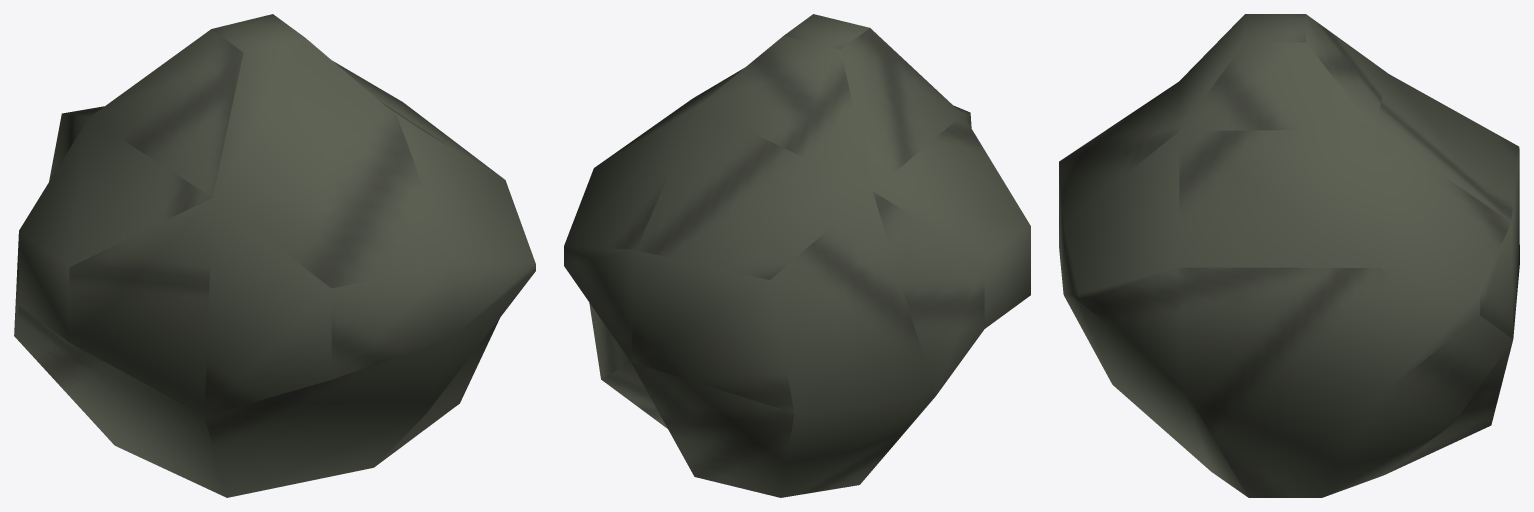
Rendered from Phase 1 Bamboo 1.fbx.
3 renders of one model, left to right at view 1: azimuth 30°, elevation 25°; view 2: azimuth 150°, elevation 25°; view 3: azimuth 270°, elevation 25°, orthographic. The views are drawn at different scales.
Visible parts, largest first — view 1: Phase 1 Bamboo 1; view 2: Phase 1 Bamboo 1; view 3: Phase 1 Bamboo 1.
Part boxes in pixels (<box>): Phase 1 Bamboo 1: <box>14,14,535,497</box>; Phase 1 Bamboo 1: <box>564,14,1030,497</box>; Phase 1 Bamboo 1: <box>1059,14,1519,497</box>.
Size of the model in its own units: 27.46 by 27.75 by 28.45.
